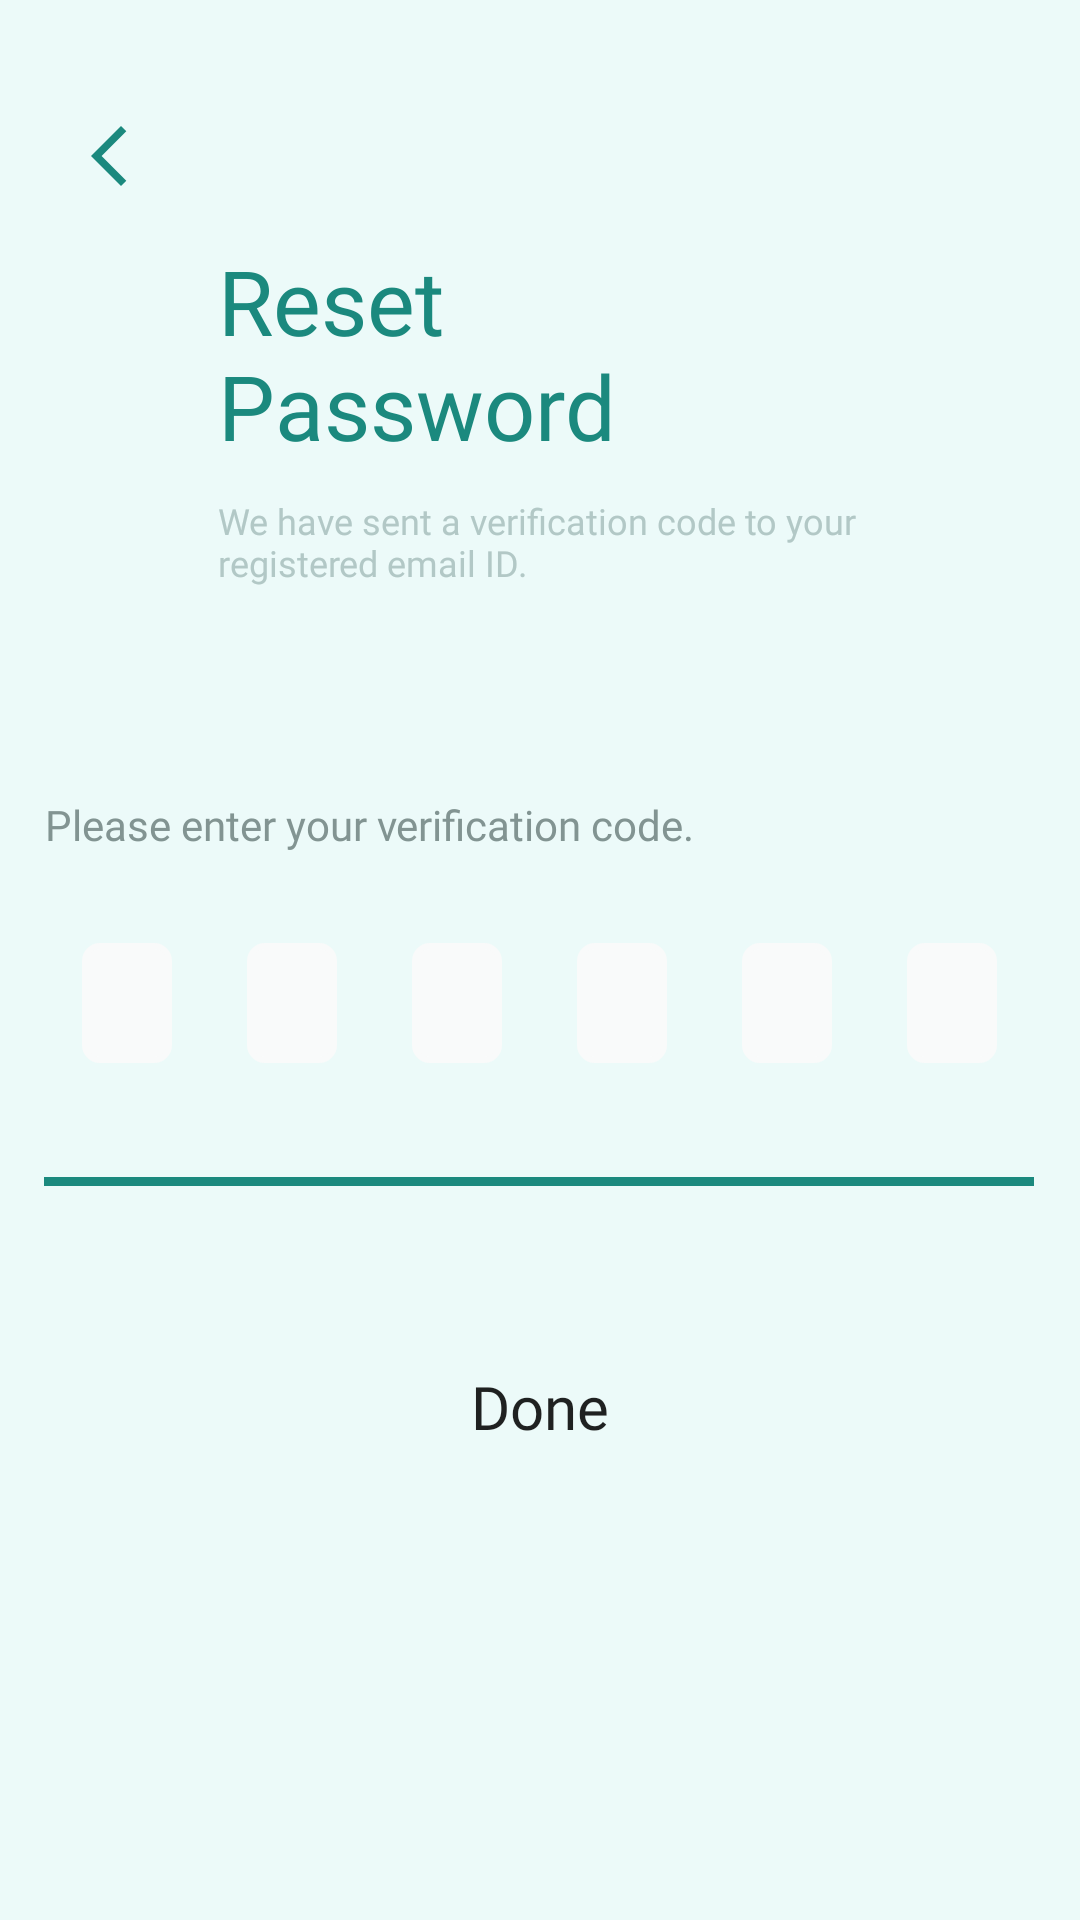

Locate icon controls on the screen. Image size 1080 x 1920, boxes as box=[x1, y1, x2, y2].
arrow: box=[91, 126, 126, 186]
